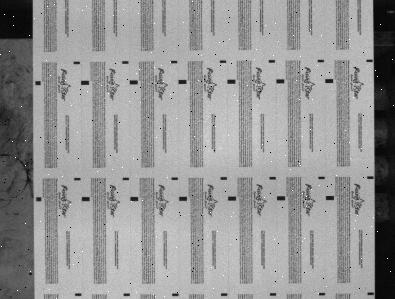backgroundclutter: (29, 273, 32, 276)
incorrect qblock: (35, 81, 41, 86), (36, 197, 41, 202)
qblock: (81, 197, 90, 202), (130, 197, 139, 202), (179, 197, 188, 202), (277, 196, 286, 201), (326, 196, 335, 201), (130, 80, 138, 85), (277, 79, 285, 84), (228, 79, 236, 84), (228, 197, 237, 201), (325, 79, 334, 83), (81, 81, 89, 85), (179, 80, 187, 84)
smallqblock: (171, 177, 179, 181), (270, 293, 277, 297), (171, 60, 178, 64), (220, 177, 228, 180), (123, 294, 130, 297), (73, 61, 80, 64), (75, 294, 82, 297), (122, 61, 129, 64), (221, 294, 228, 297), (172, 294, 179, 297), (220, 60, 227, 63), (319, 293, 326, 296), (74, 178, 81, 181), (269, 60, 276, 63), (123, 178, 130, 181), (367, 59, 374, 62), (319, 177, 326, 180), (270, 177, 277, 180), (368, 293, 375, 296), (368, 176, 375, 179), (318, 60, 325, 62)
